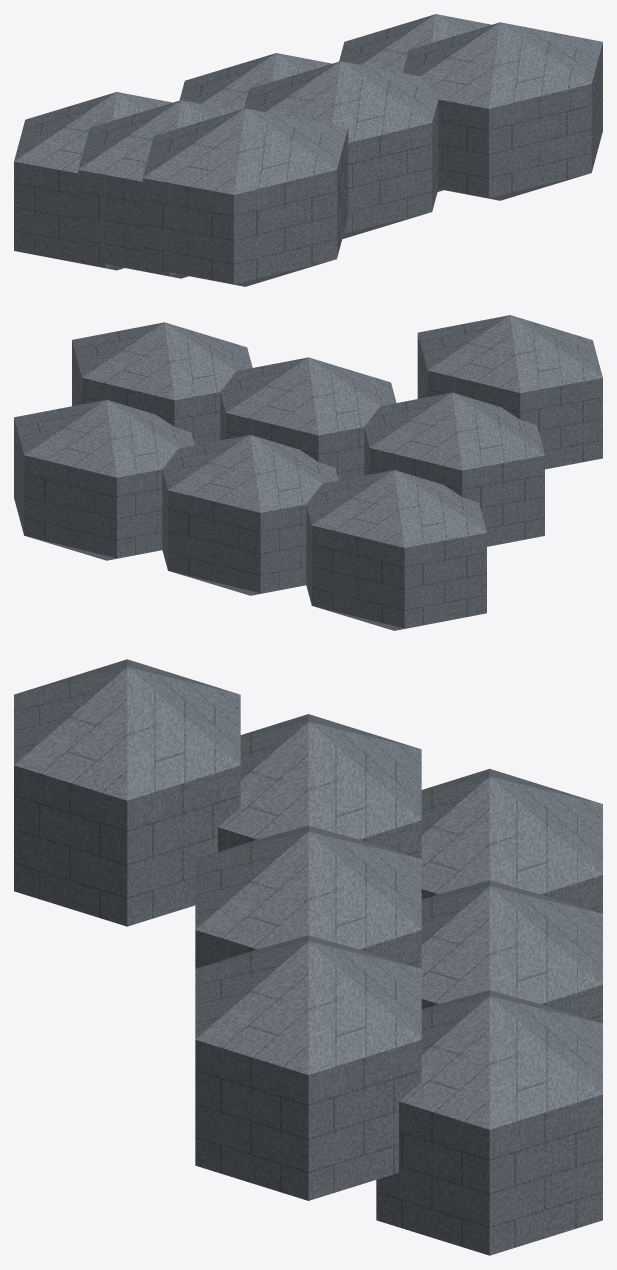
Rendered from pillar_rubble.glb.
3 renders of one model, top to bottom at view 1: azimuth 30°, elevation 25°; view 2: azimuth 150°, elevation 25°; view 3: azimuth 270°, elevation 25°, orthographic. The views are drawn at different scales.
Visible parts, largest first — view 1: rubble (×7); view 2: rubble (×7); view 3: rubble (×7).
Boxes of the visible parts, box(x1,y1,x2,y2) form: rubble (×7): box(14, 14, 602, 286); rubble (×7): box(14, 315, 602, 630); rubble (×7): box(14, 659, 602, 1255).
Size of the model in its own units: 1.41 by 0.66 by 0.975.
Materials: 1 (1 with a texture image).
